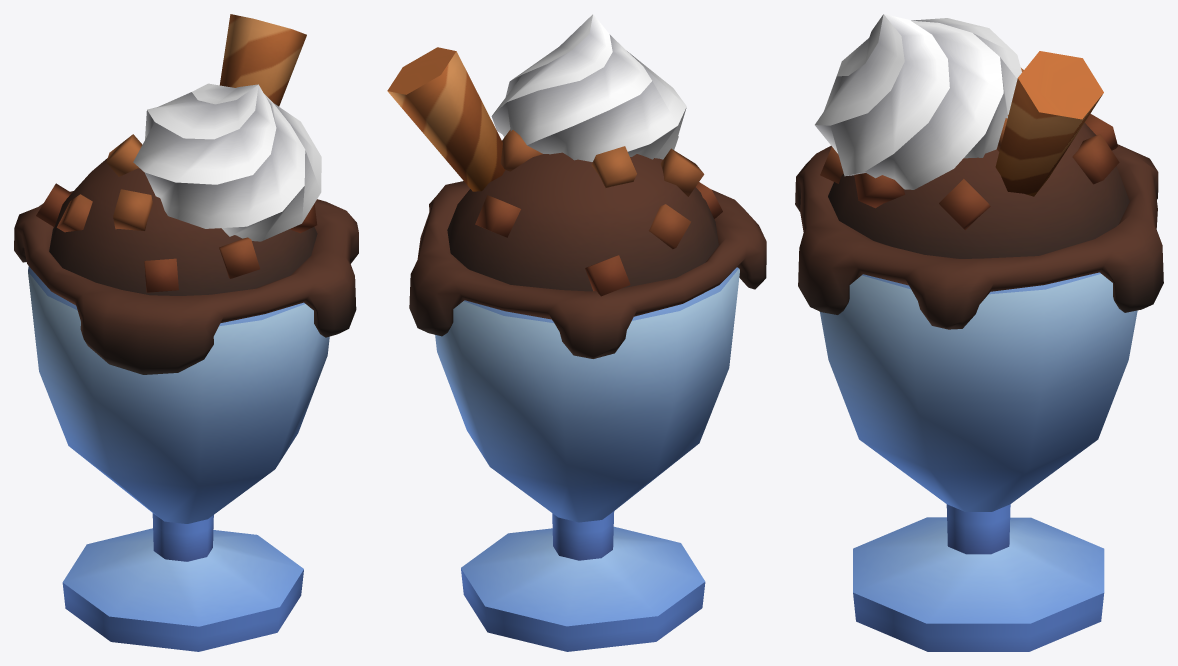
File: m_IceCreamBowl03.fbx
3 renders of one model, left to right at view 1: azimuth 30°, elevation 25°; view 2: azimuth 150°, elevation 25°; view 3: azimuth 270°, elevation 25°, orthographic. The views are drawn at different scales.
Visible parts, largest first — view 1: m_IceCreamBowl03; view 2: m_IceCreamBowl03; view 3: m_IceCreamBowl03.
Part boxes in pixels (bbox=[...]): m_IceCreamBowl03: bbox=[14, 14, 358, 651]; m_IceCreamBowl03: bbox=[387, 14, 766, 651]; m_IceCreamBowl03: bbox=[795, 14, 1163, 651].
Size of the model in its own units: 13.45 by 23.33 by 12.91.
